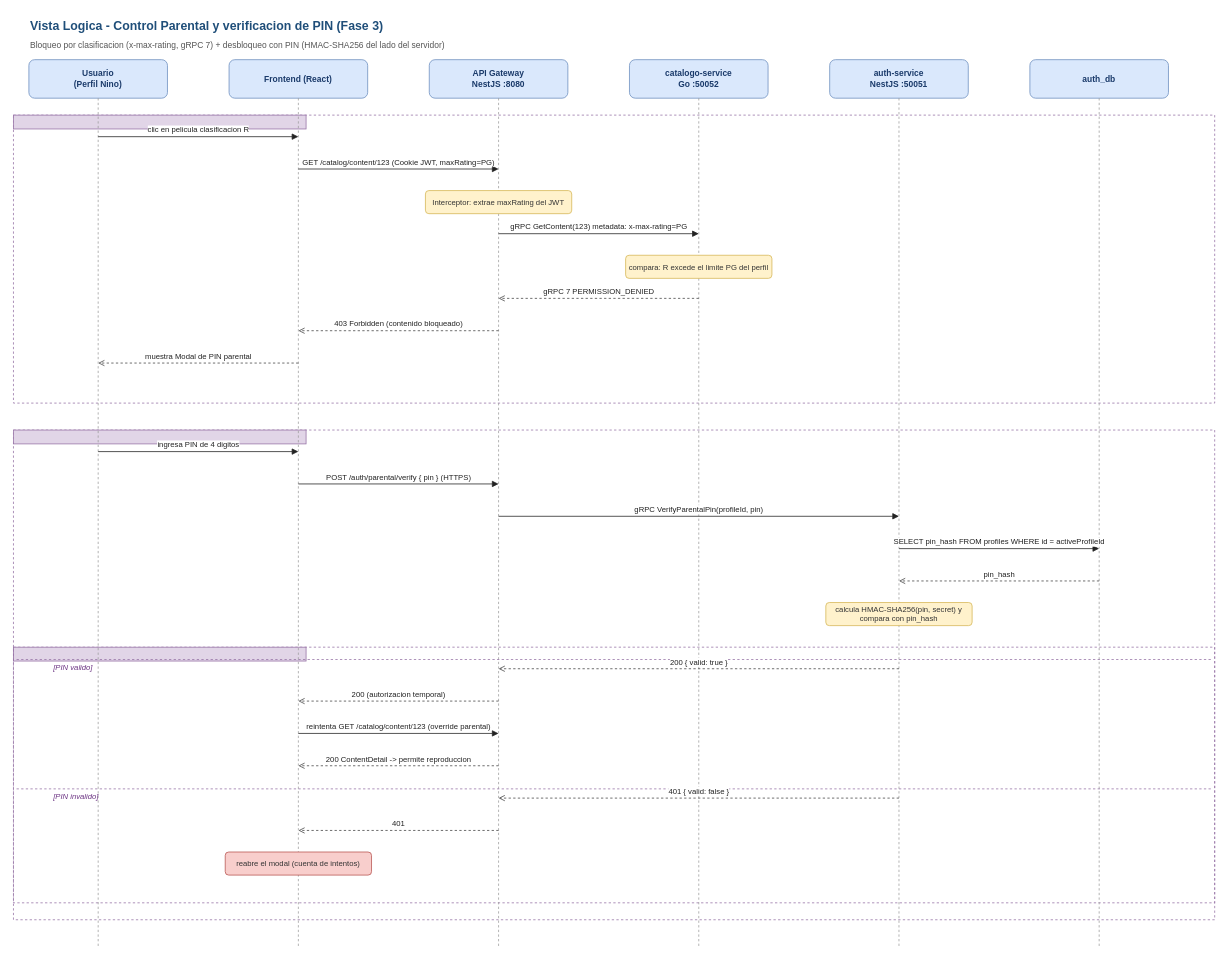
The diagram is 1228 pixels wide and 962 high, and some of its shapes have lost their labels. The centre of each missing label's shape, as x and y in pixels:
alt - Resultado de la verificacion: the point at 159,653
Fase 1 - Bloqueo de contenido no apto: the point at 159,121
Fase 2 - Desbloqueo mediante PIN: the point at 159,436
